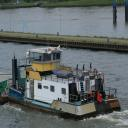tugboat: (9, 45, 123, 124)
